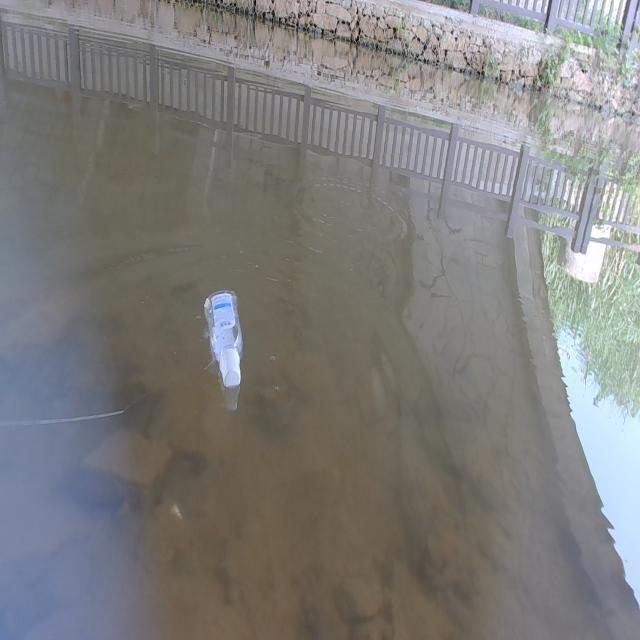bottle: (190, 257, 256, 408)
